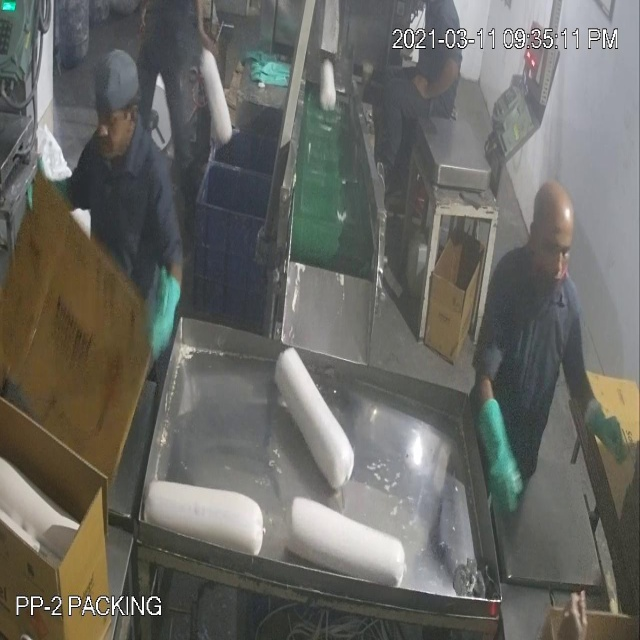Guantes: (467, 382, 526, 532), (576, 372, 627, 480), (140, 270, 187, 359)
Sin_guantes: (399, 50, 462, 109)
